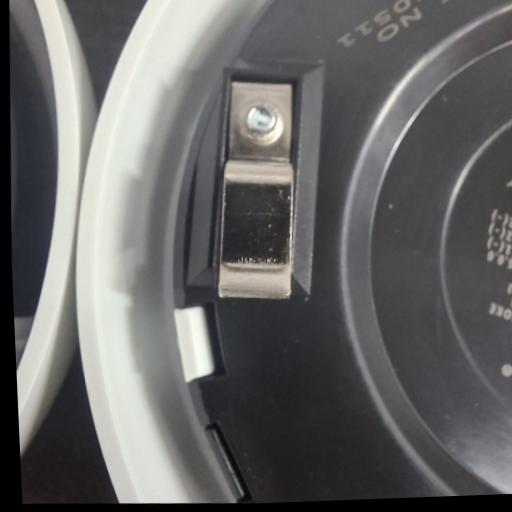yaysiz: (204, 72, 308, 307)
